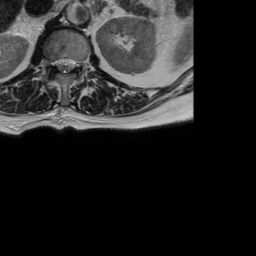CCS_normal: (61, 52, 68, 78)
LFS_normal: (76, 55, 82, 71)
LLS_normal: (68, 55, 75, 72)
RFS_stenosis: (46, 55, 54, 71)
RLS_normal: (54, 54, 61, 72)
